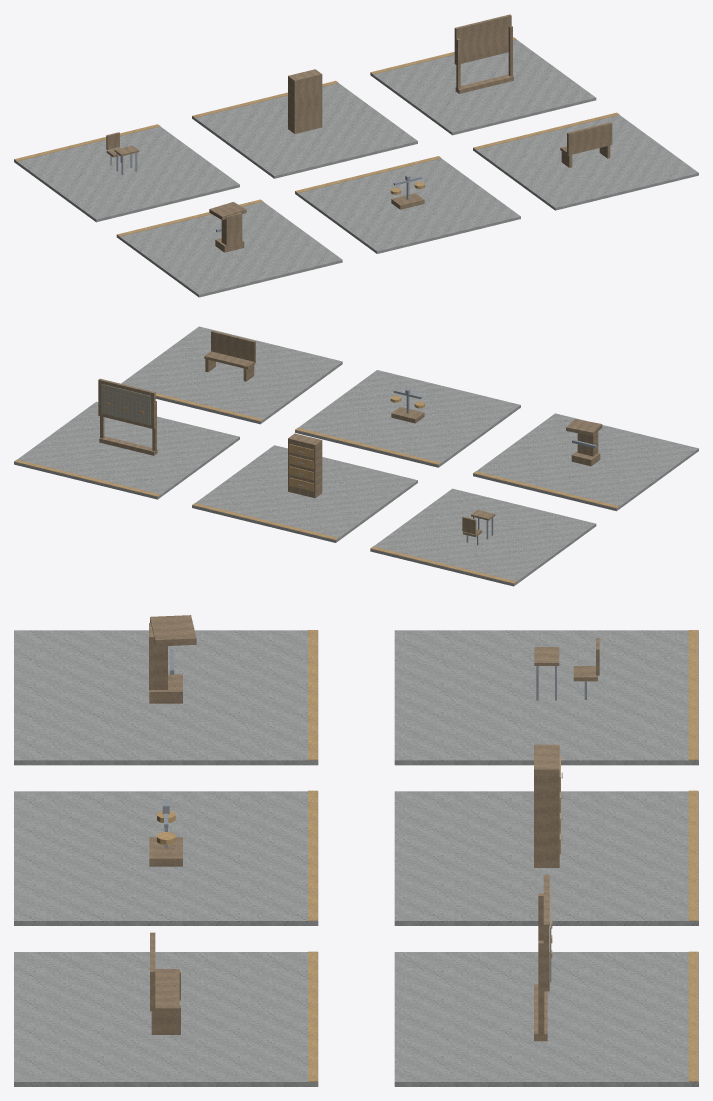
Rendered from level_blockout_kit_academy_p01.glb.
3 views of the same model, one above another, from view 1: azimuth 30°, elevation 25°; view 2: azimuth 150°, elevation 25°; view 3: azimuth 270°, elevation 25° (orthographic). The views are drawn at different scales.
Visible parts, largest first — view 1: level_blockout_kit_academy_p01; view 2: level_blockout_kit_academy_p01; view 3: level_blockout_kit_academy_p01.
Boxes of the visible parts, <box> form: level_blockout_kit_academy_p01: <box>14,14,698,297</box>; level_blockout_kit_academy_p01: <box>14,326,698,586</box>; level_blockout_kit_academy_p01: <box>14,615,698,1086</box>.
Bounding box in the file's own units: 19.65 × 2.48 × 12.6.
5 materials, 5 textured.
